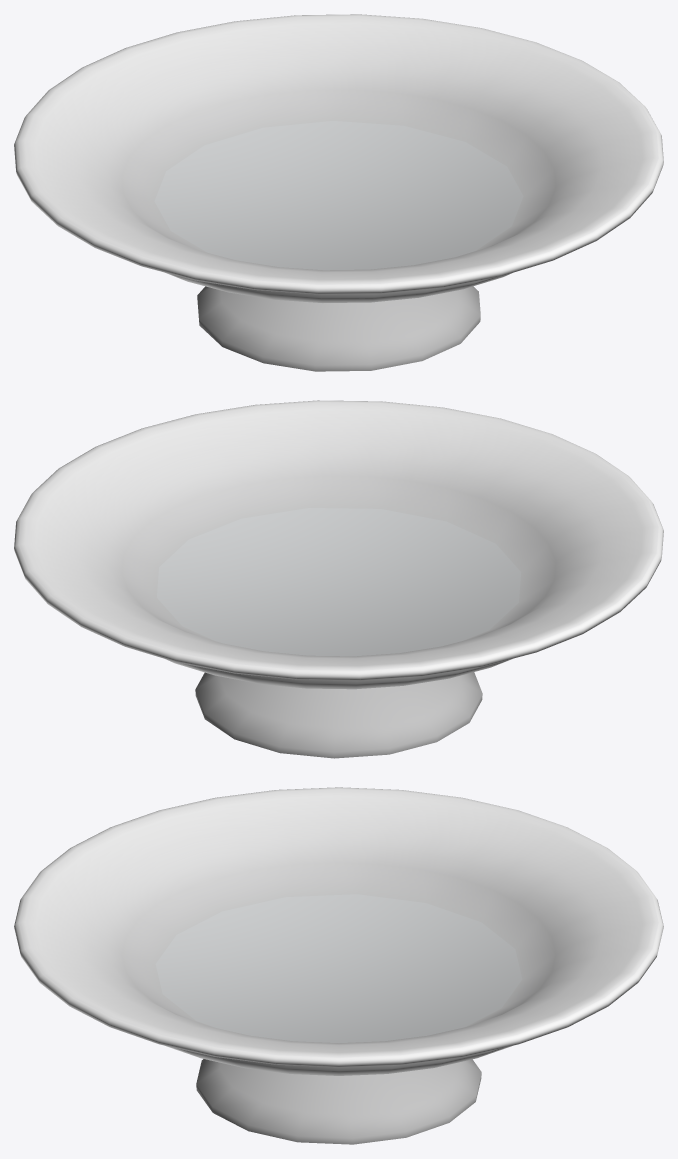
File: plate_010.fbx
3 renders of one model, top to bottom at view 1: azimuth 30°, elevation 25°; view 2: azimuth 150°, elevation 25°; view 3: azimuth 270°, elevation 25°, orthographic.
Parts seen in each view (by area): view 1: plate_010; view 2: plate_010; view 3: plate_010.
Part boxes in pixels (<box>): plate_010: <box>14,14,663,371</box>; plate_010: <box>14,400,663,758</box>; plate_010: <box>14,787,663,1144</box>.
Size of the model in its own units: 35.39 by 35.39 by 9.76.
